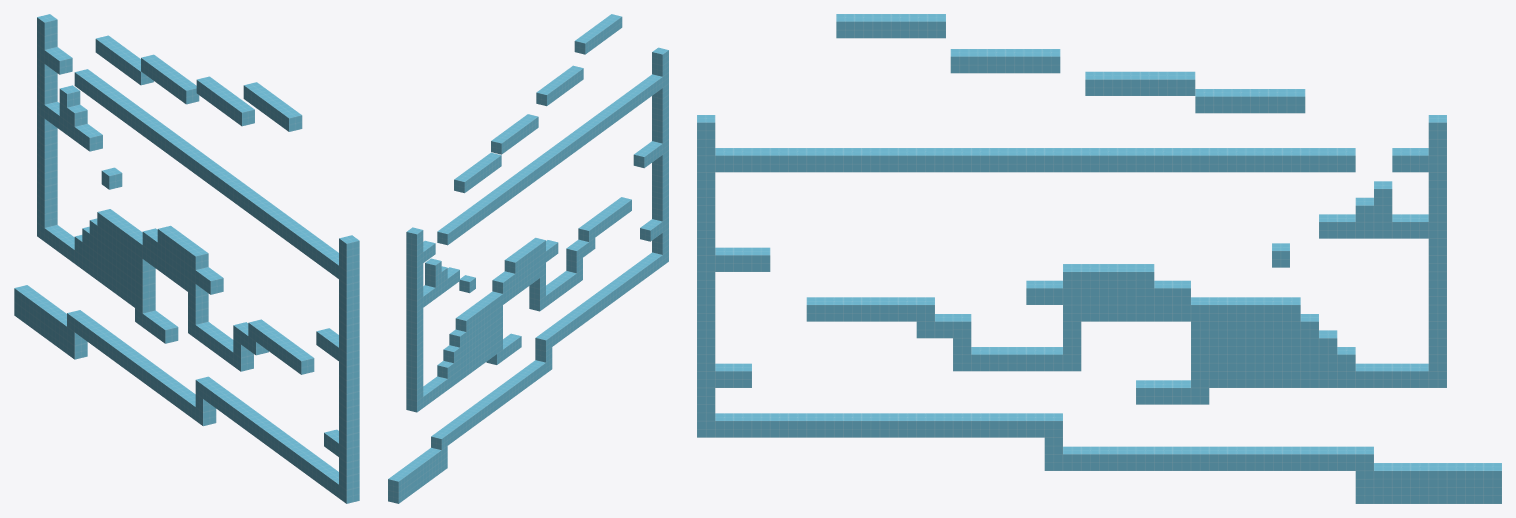
The picture shows the model from 3 angles, left to right: view 1: azimuth 30°, elevation 25°; view 2: azimuth 150°, elevation 25°; view 3: azimuth 270°, elevation 25°; orthographic projection. The views are drawn at different scales.
Parts seen in each view (by area): view 1: scene_06; view 2: scene_06; view 3: scene_06.
Part boxes in pixels (x1,y1,x2,y2): scene_06: (14, 14, 359, 503); scene_06: (388, 14, 668, 503); scene_06: (697, 14, 1501, 503).
Size of the model in its own units: 1 by 29.09 by 44.
